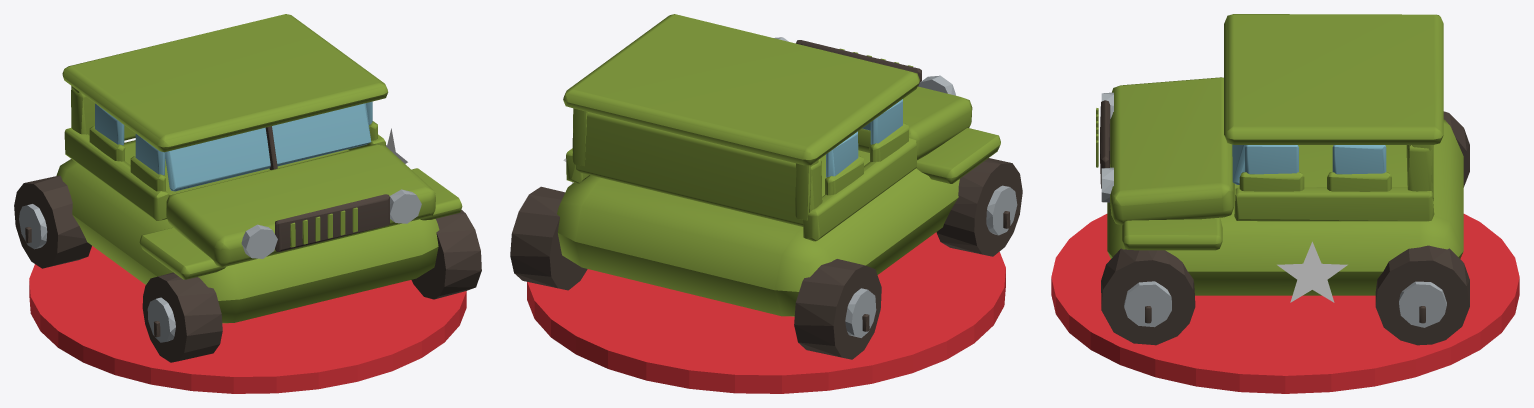
File: usa_militia_lod0.glb
3 renders of one model, left to right at view 1: azimuth 30°, elevation 25°; view 2: azimuth 150°, elevation 25°; view 3: azimuth 270°, elevation 25°, orthographic. The views are drawn at different scales.
Parts seen in each view (by area): view 1: body_hull, base_pedestal; view 2: body_hull, base_pedestal; view 3: body_hull, base_pedestal.
Boxes of the visible parts, x1=… form: body_hull: x1=14, y1=14, x2=481, y2=362; base_pedestal: x1=29, y1=246, x2=466, y2=393; body_hull: x1=510, y1=14, x2=1022, y2=359; base_pedestal: x1=527, y1=232, x2=1005, y2=393; body_hull: x1=1096, y1=14, x2=1469, y2=345; base_pedestal: x1=1051, y1=214, x2=1519, y2=393.
Size of the model in its own units: 0.78 by 0.4131 by 0.78.
